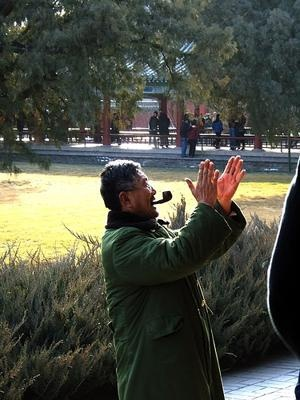person without safety: (85, 153, 220, 400)
